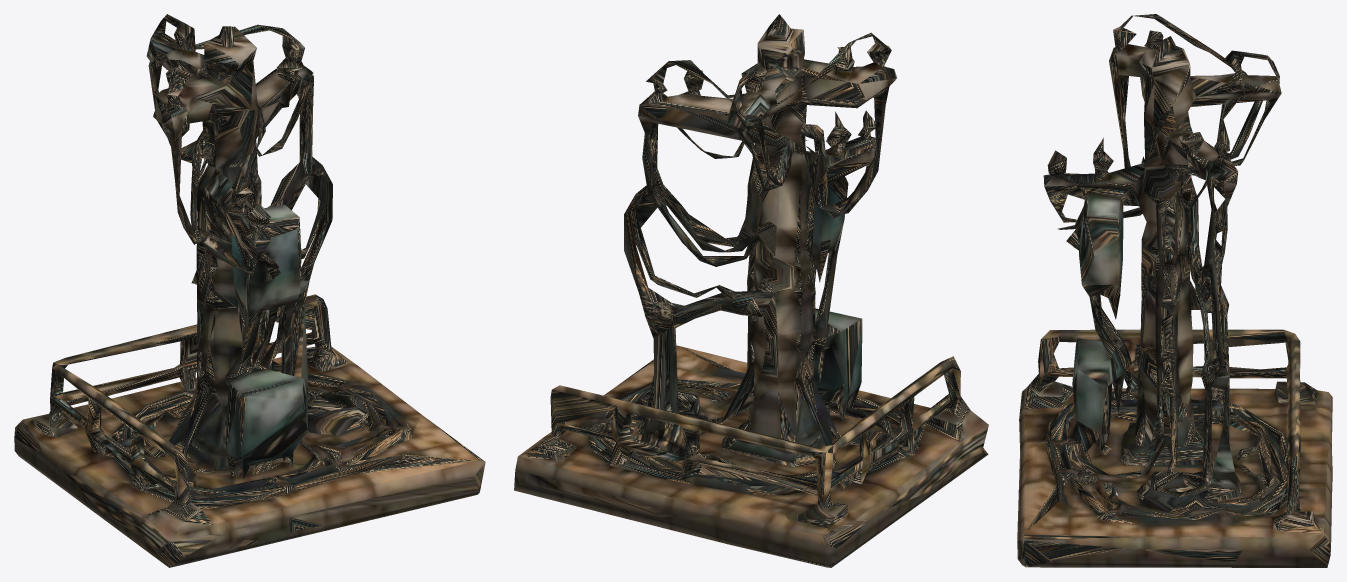
File: wirepole.glb
The picture shows the model from 3 angles, left to right: view 1: azimuth 30°, elevation 25°; view 2: azimuth 150°, elevation 25°; view 3: azimuth 270°, elevation 25°; orthographic projection. The views are drawn at different scales.
Visible parts, largest first — view 1: tripo_node_086d1b9f; view 2: tripo_node_086d1b9f; view 3: tripo_node_086d1b9f.
Part boxes in pixels (x1,y1,x2,y2): tripo_node_086d1b9f: [14, 14, 485, 567]; tripo_node_086d1b9f: [514, 14, 988, 567]; tripo_node_086d1b9f: [1017, 14, 1332, 567].
Bounding box in the file's own units: 71.55 × 96.2 × 61.74.
Materials: 1 (1 with a texture image).
